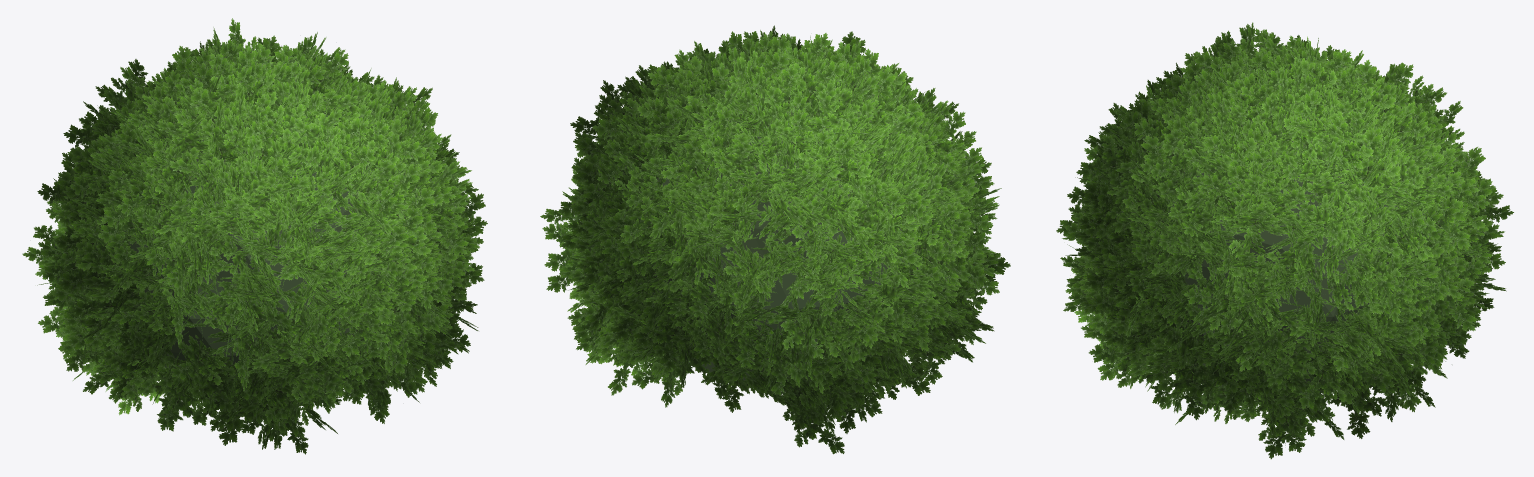
The model's file is bush_large_01.glb.
3 views of the same model, side by side, from view 1: azimuth 30°, elevation 25°; view 2: azimuth 150°, elevation 25°; view 3: azimuth 270°, elevation 25° (orthographic). The views are drawn at different scales.
Visible parts, largest first — view 1: hojas, nucleo; view 2: hojas, nucleo; view 3: hojas, nucleo.
Part boxes in pixels (box(x1,y1,x2,y2)): hojas: box(22, 18, 487, 454); nucleo: box(125, 159, 368, 378); hojas: box(540, 25, 1010, 454); nucleo: box(651, 116, 926, 387); hojas: box(1056, 22, 1513, 459); nucleo: box(1156, 128, 1412, 392).
Bounding box in the file's own units: 2.03 × 1.82 × 2.
Materials: 2 (1 with a texture image).
